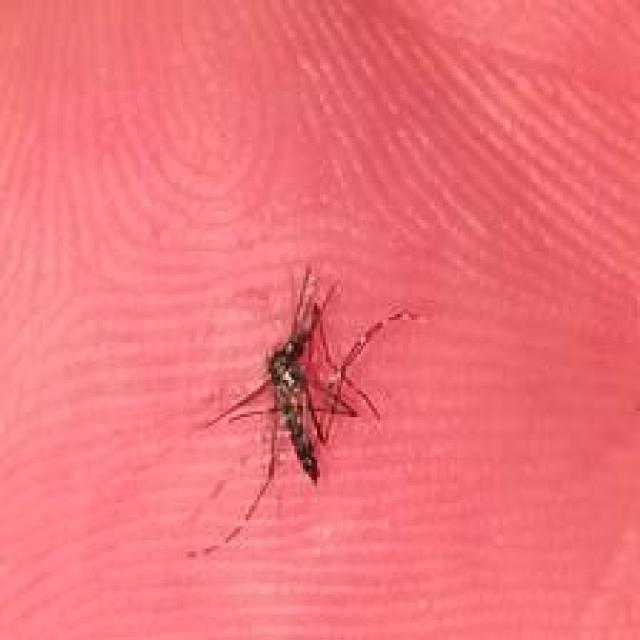Aedes albopictus: (191, 263, 420, 557)
